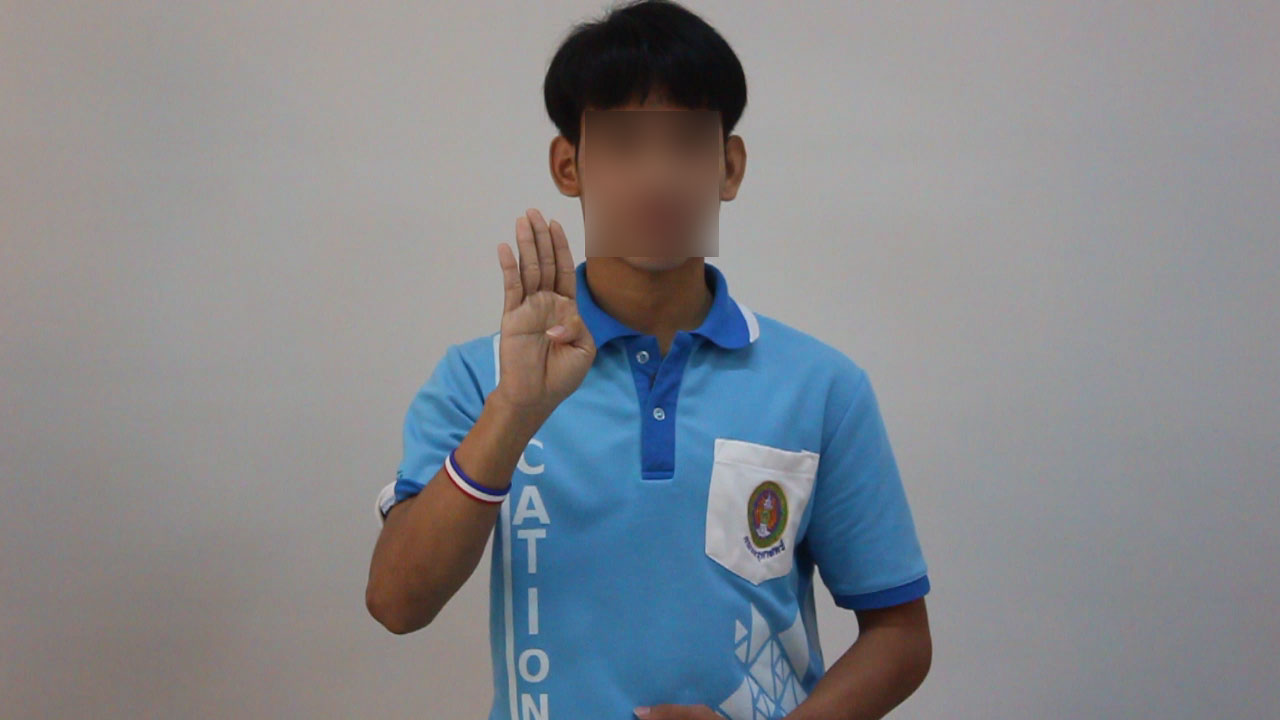bor: (481, 191, 612, 436)
